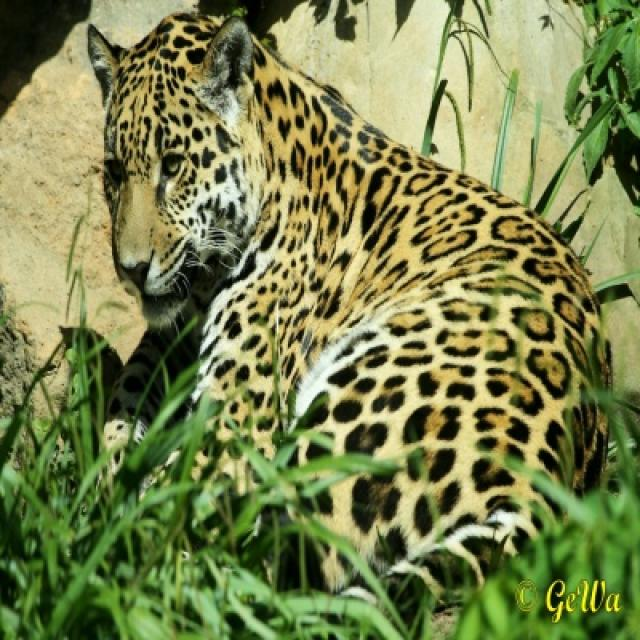Jaguar: (91, 11, 619, 638)
